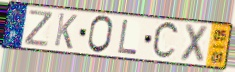C: (150, 20, 181, 62)
K: (52, 11, 79, 51)
L: (116, 18, 139, 57)
O: (86, 14, 115, 55)
X: (178, 22, 210, 65)
Z: (23, 9, 55, 48)
